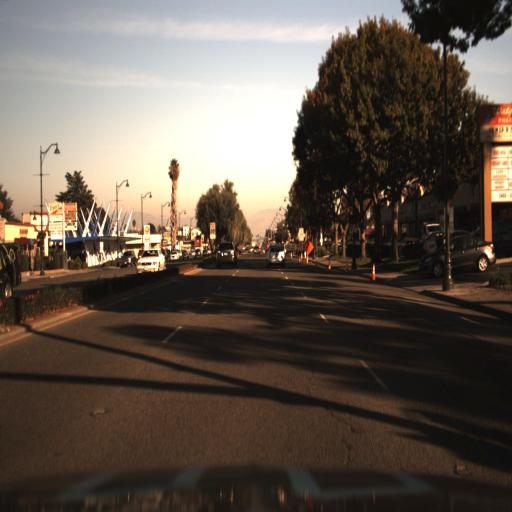car: (417, 230, 500, 271), (212, 238, 239, 271), (138, 246, 164, 274), (265, 241, 285, 267), (119, 250, 135, 269), (170, 242, 181, 267)
